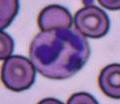N: (30, 27, 90, 79)
